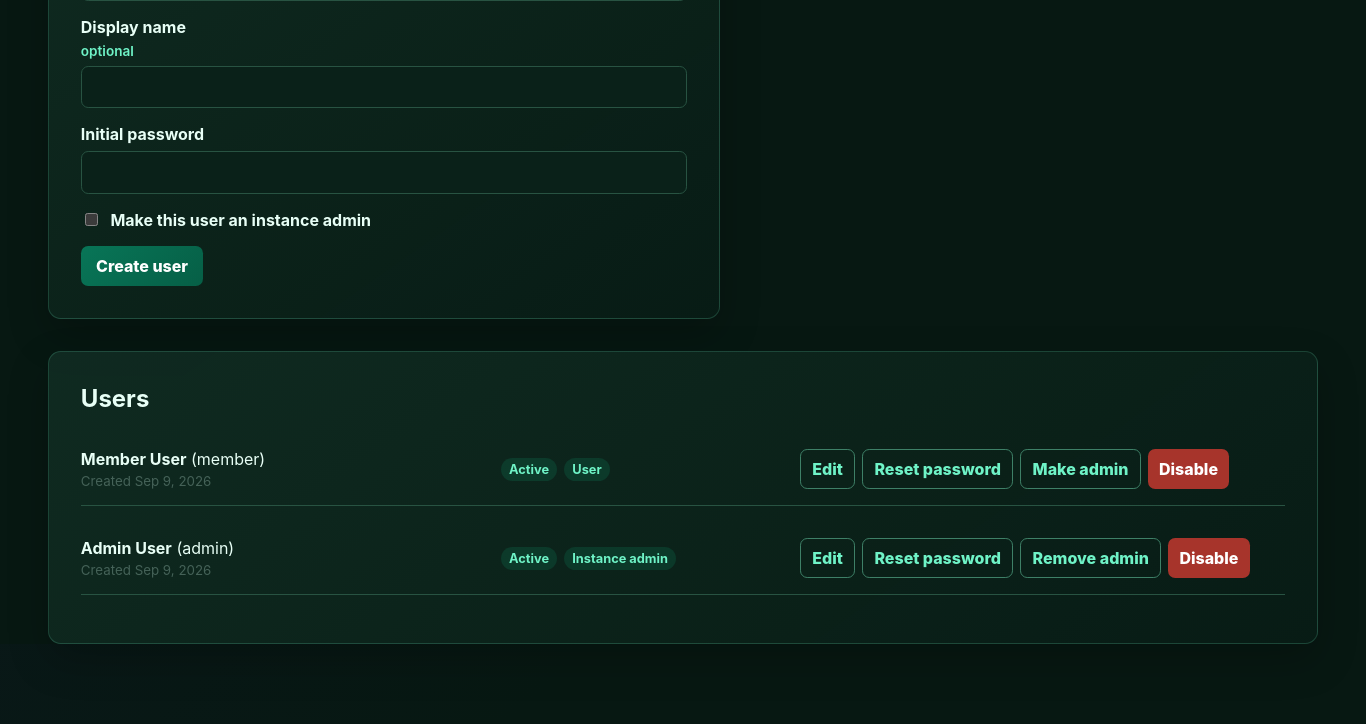
AdminUsersView › resets another user password and clears the password inputs
(page scrolled)
Click the button "Reset password" in the row of "Member User".
click(938, 469)  # box [862,449,1013,489]
(page scrolled)
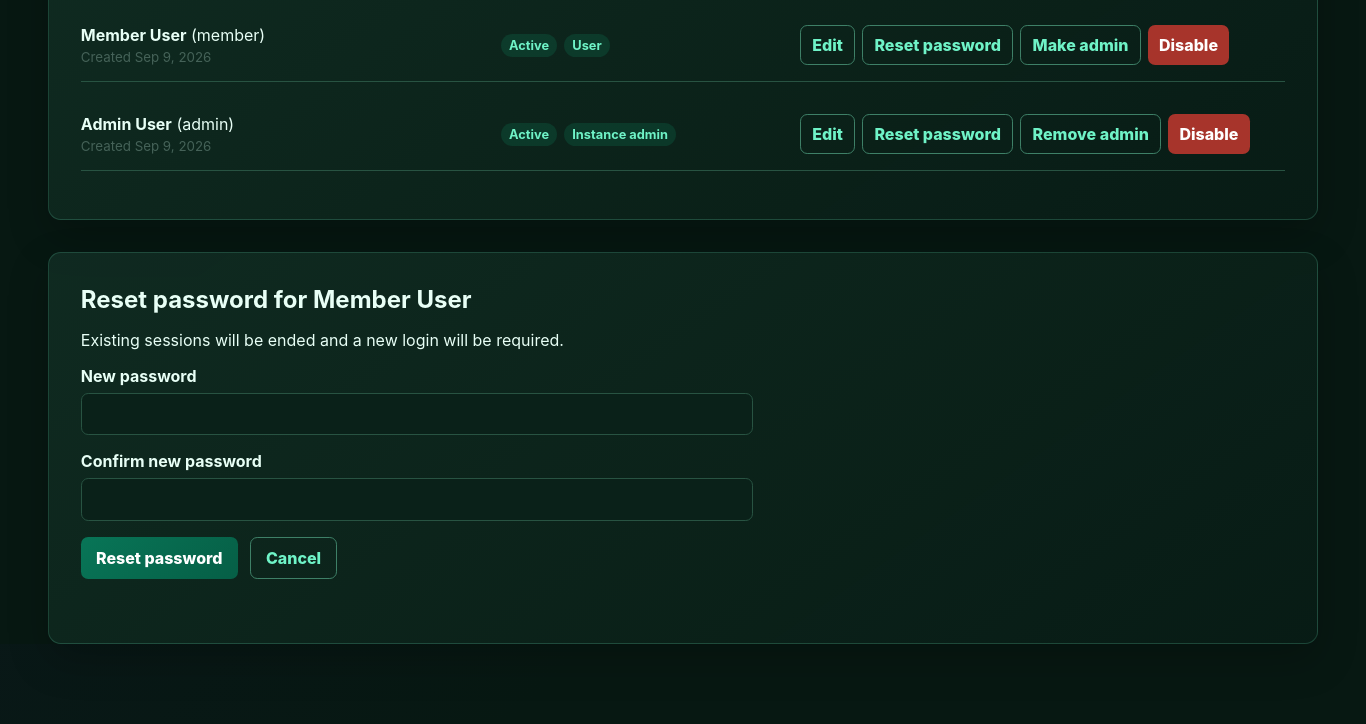
Type "a sufficiently long new password" into the password field labelled "New password".
click(417, 414); type("a sufficiently long new password")  # box [81,393,753,435]
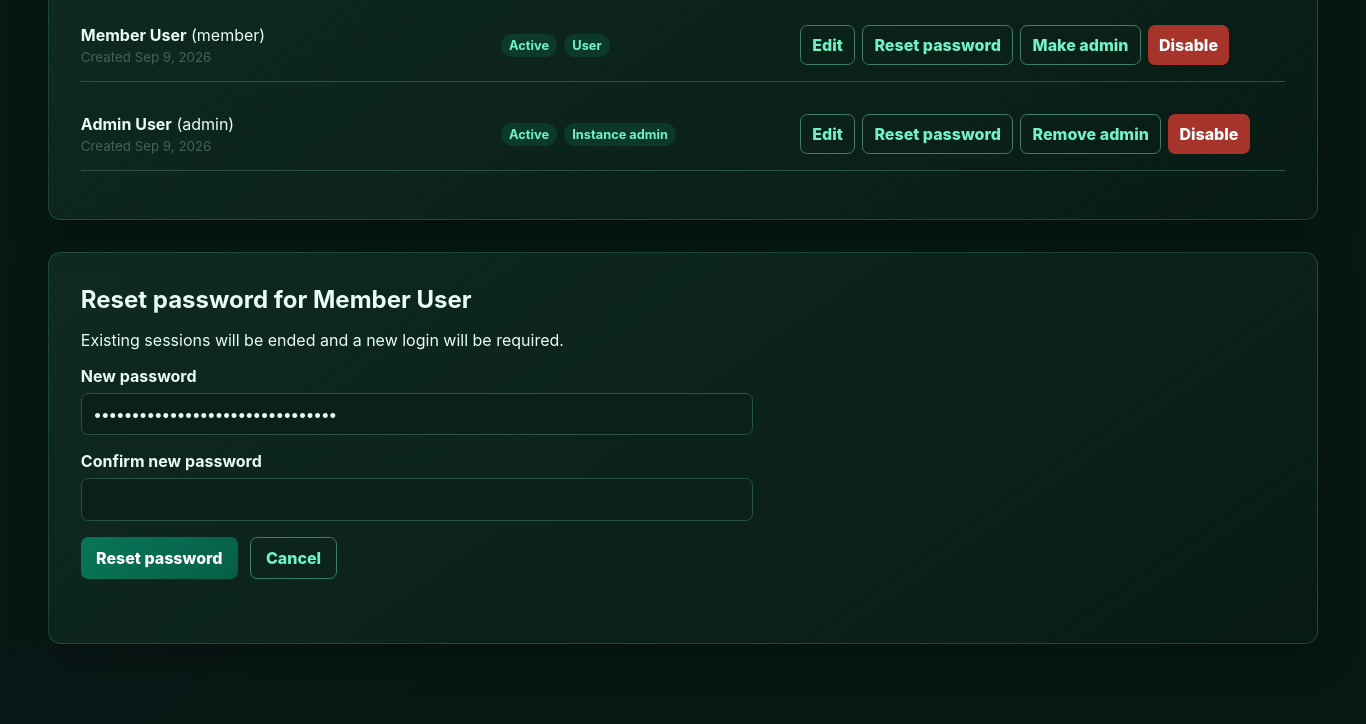
Type "a sufficiently long new password" into the password field labelled "Confirm new password".
click(417, 499); type("a sufficiently long new password")  # box [81,478,753,521]
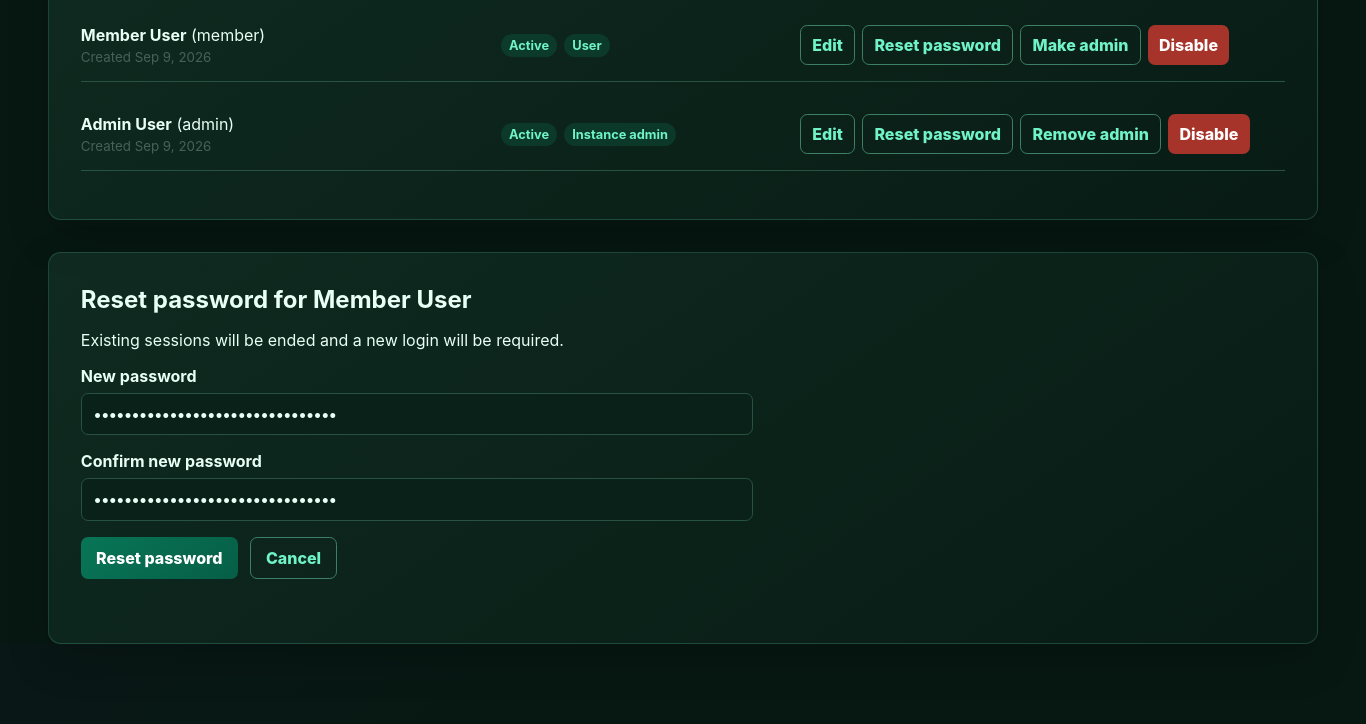
Submit the form, box [81,366,753,579]
(page scrolled)
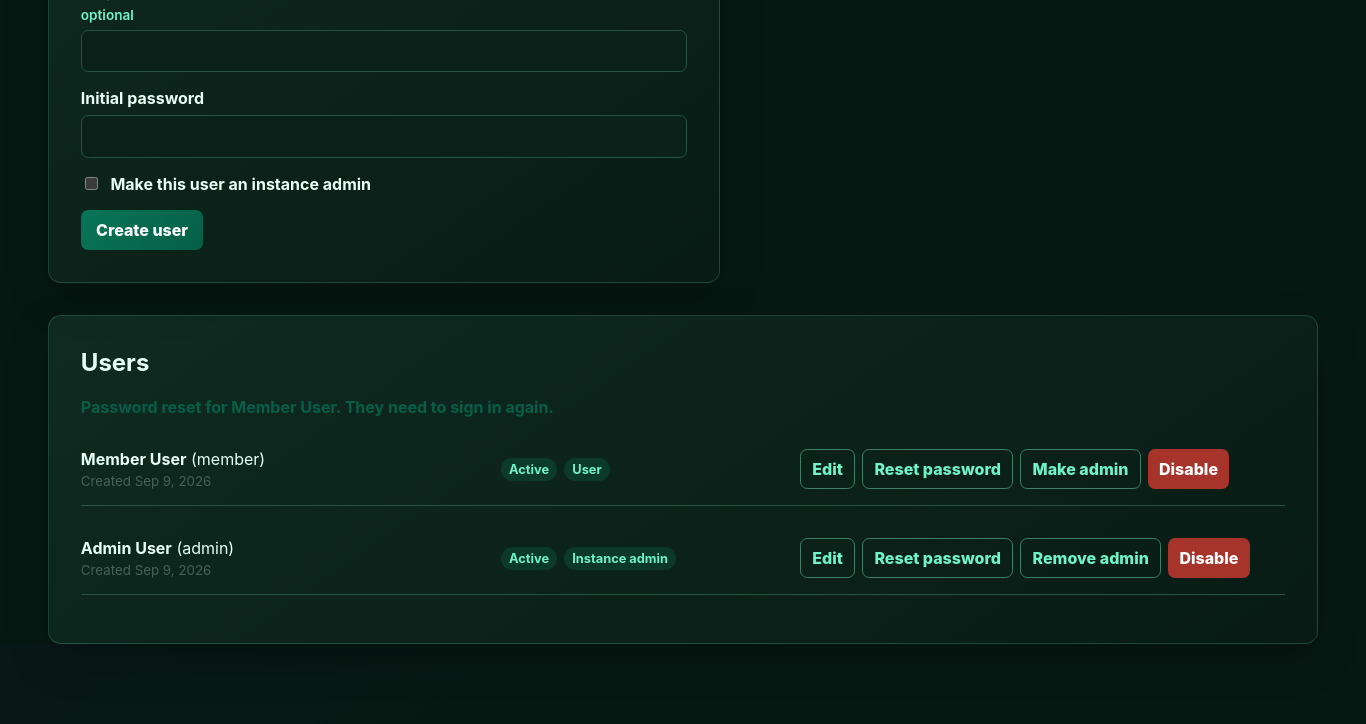
Check: the text "Password reset for Member User" is shown, box [81,397,554,417]
